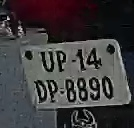0: (100, 78, 116, 102)
1: (75, 48, 86, 72)
4: (86, 48, 103, 73)
8: (64, 78, 78, 104), (75, 76, 89, 102)
9: (86, 76, 101, 103)
D: (33, 81, 48, 105)
P: (47, 78, 60, 106), (54, 49, 68, 74)
U: (40, 50, 56, 75)
